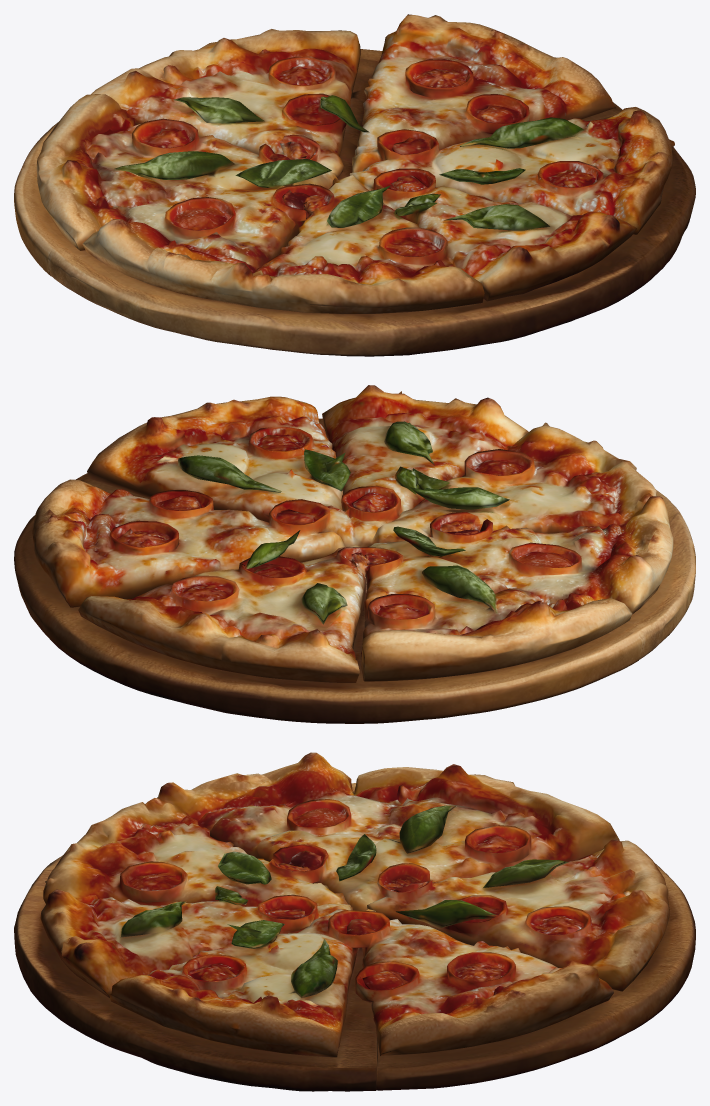
The model's file is pizza-realPPeroni.glb.
The picture shows the model from 3 angles, top to bottom: view 1: azimuth 30°, elevation 25°; view 2: azimuth 150°, elevation 25°; view 3: azimuth 270°, elevation 25°; orthographic projection.
Parts seen in each view (by area): view 1: tripo_node_a9c84936-762e-4af9-9c34-5b35c8f30f28; view 2: tripo_node_a9c84936-762e-4af9-9c34-5b35c8f30f28; view 3: tripo_node_a9c84936-762e-4af9-9c34-5b35c8f30f28.
Part boxes in pixels (x1,y1,x2,y2): tripo_node_a9c84936-762e-4af9-9c34-5b35c8f30f28: (14,14,695,356); tripo_node_a9c84936-762e-4af9-9c34-5b35c8f30f28: (14,385,695,723); tripo_node_a9c84936-762e-4af9-9c34-5b35c8f30f28: (14,752,695,1091).
Bounding box in the file's own units: 0.9793 × 0.1186 × 0.9779.
Materials: 1 (1 with a texture image).
